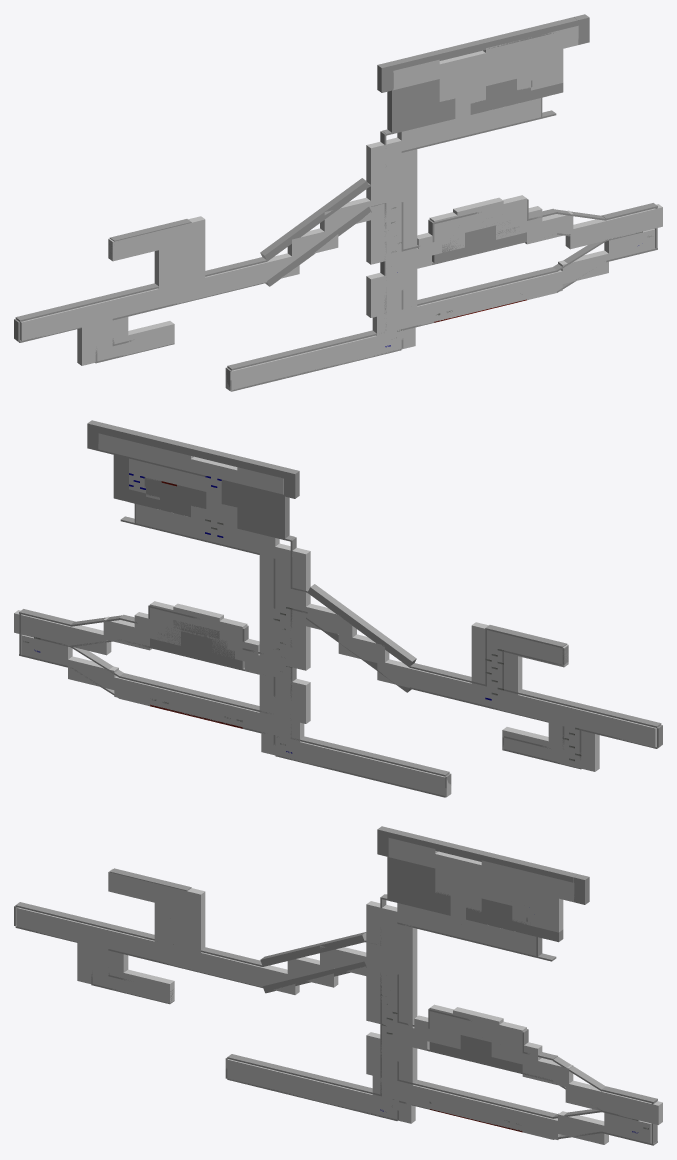
Rendered from levelLayout - Update_cameraPos.obj.
3 views of the same model, one above another, from view 1: azimuth 30°, elevation 25°; view 2: azimuth 150°, elevation 25°; view 3: azimuth 330°, elevation 25° (orthographic).
Parts seen in each view (by area): view 1: Cube.003, Cube.006, Cube.002_Cube.018, Cube.013, Cube.168_Cube.171, Cube.139_Cube.142, Cube.136_Cube.139, Cube.183_Cube.186, Cube.148_Cube.151, Cube.143_Cube.146, Cube.154_Cube.157, Cube.170_Cube.173 (+50 smaller); view 2: Cube.003, Cube.006, Cube.002_Cube.018, Cube.013, Cube.139_Cube.142, Cube.136_Cube.139, Cube.148_Cube.151, Cube.157_Cube.160, Cube.168_Cube.171, Cube.151_Cube.154, Cube.149_Cube.152, Cube.150_Cube.153 (+47 smaller); view 3: Cube.003, Cube.006, Cube.168_Cube.171, Cube.013, Cube.136_Cube.139, Cube.002_Cube.018, Cube.169_Cube.172, Cube.183_Cube.186, Cube.155_Cube.158, Cube.138_Cube.141, Cube.139_Cube.142, Cube.148_Cube.151 (+50 smaller).
Part boxes in pixels (x1,y1,x2,y2): Cube.003: (387, 79, 455, 134); Cube.006: (389, 17, 578, 72); Cube.002_Cube.018: (260, 178, 369, 261); Cube.013: (470, 79, 530, 114); Cube.168_Cube.171: (128, 321, 174, 354); Cube.139_Cube.142: (565, 218, 616, 249); Cube.136_Cube.139: (558, 250, 608, 283); Cube.183_Cube.186: (439, 50, 485, 83); Cube.148_Cube.151: (366, 269, 417, 298); Cube.143_Cube.146: (453, 197, 503, 230); Cube.154_Cube.157: (366, 156, 417, 186); Cube.170_Cube.173: (108, 231, 158, 261); Cube.003: (221, 479, 289, 538); Cube.006: (98, 423, 287, 478); Cube.002_Cube.018: (307, 584, 416, 667); Cube.013: (146, 479, 206, 517); Cube.139_Cube.142: (60, 624, 111, 655); Cube.136_Cube.139: (68, 656, 118, 689); Cube.148_Cube.151: (259, 674, 310, 704); Cube.157_Cube.160: (338, 634, 389, 664); Cube.168_Cube.171: (502, 727, 548, 759); Cube.151_Cube.154: (259, 621, 310, 651); Cube.149_Cube.152: (259, 693, 310, 723); Cube.150_Cube.153: (259, 640, 310, 670); Cube.003: (387, 857, 450, 915); Cube.006: (388, 829, 577, 882); Cube.168_Cube.171: (123, 969, 174, 1003); Cube.013: (466, 898, 526, 934); Cube.136_Cube.139: (558, 1111, 608, 1144); Cube.002_Cube.018: (260, 932, 366, 966); Cube.169_Cube.172: (154, 883, 205, 913); Cube.183_Cube.186: (435, 851, 481, 884); Cube.155_Cube.158: (366, 901, 417, 934); Cube.138_Cube.141: (612, 1094, 662, 1124); Cube.139_Cube.142: (565, 1080, 612, 1112); Cube.148_Cube.151: (366, 1032, 417, 1065).
Bounding box in the file's own units: 834 × 355 × 10.01.
62 materials, 4 textured.
